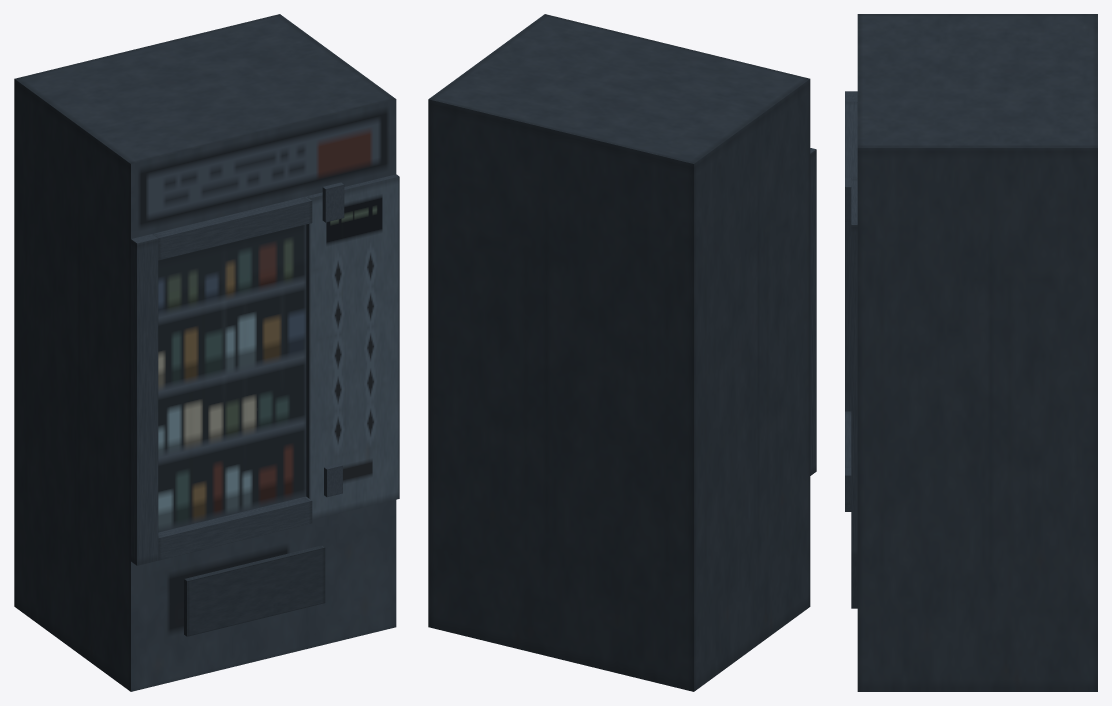
The model's file is vending_machine.glb.
3 renders of one model, left to right at view 1: azimuth 30°, elevation 25°; view 2: azimuth 150°, elevation 25°; view 3: azimuth 270°, elevation 25°, orthographic. The views are drawn at different scales.
Visible parts, largest first — view 1: core_vending_machine; view 2: core_vending_machine; view 3: core_vending_machine.
Part boxes in pixels (x1=…): core_vending_machine: x1=14, y1=14, x2=399, y2=691; core_vending_machine: x1=428, y1=14, x2=816, y2=691; core_vending_machine: x1=845, y1=14, x2=1097, y2=691.
Bounding box in the file's own units: 1 × 1.9 × 0.8.
1 material, 1 textured.
